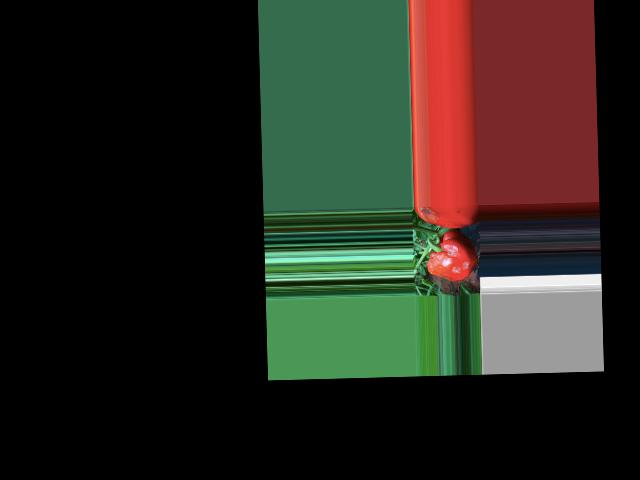bell_pepper: (421, 230, 481, 279)
